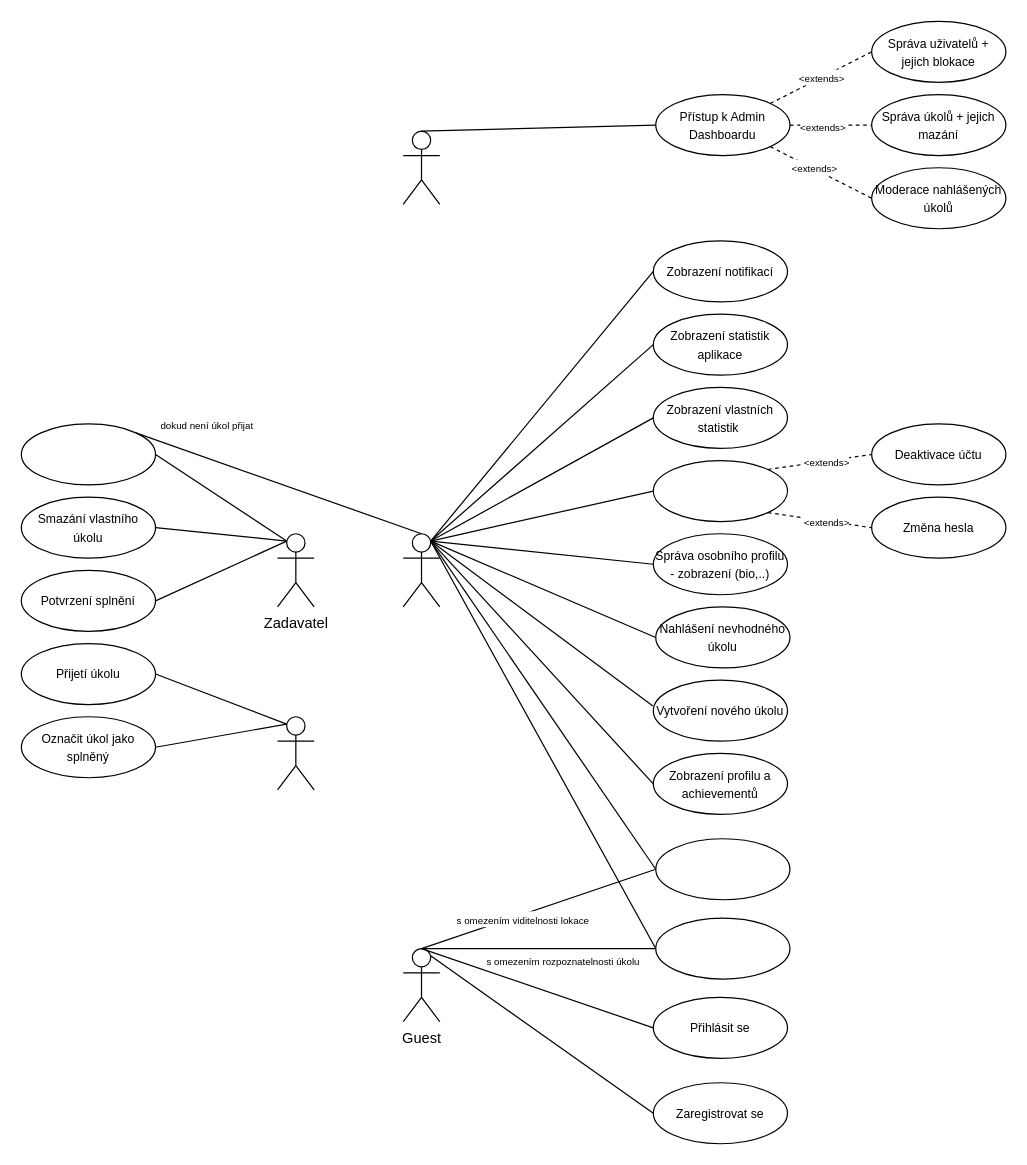
The diagram is 1027 pixels wide and 1165 high, and some of its shapes have lost their labels. The shapes that lost their labels are listed below. From the top down, each one's box as (x1, y1, x2, y2) in pixels, then its label:
(402, 130, 440, 204): Admin
(20, 423, 156, 485): Zobrazení detailu úkolu
(652, 459, 788, 522): Nastavení účtu
(402, 533, 440, 607): Uživatel
(276, 716, 314, 790): Dobrovolník
(655, 838, 790, 900): Zobrazení seznamu úkolu
(655, 917, 790, 979): Zobrazení mapy úkolu
